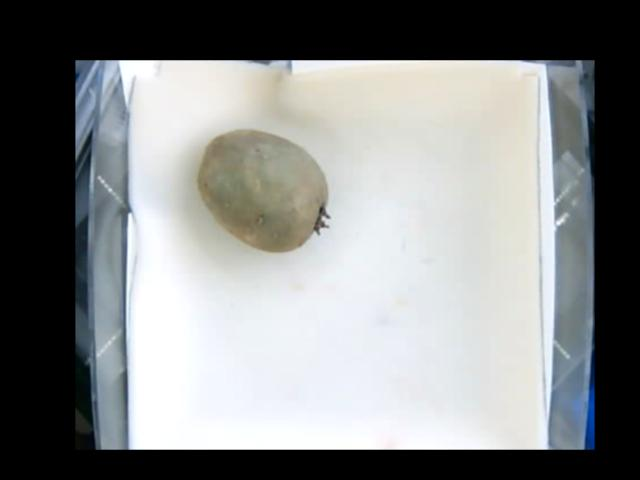Potato: (196, 126, 331, 257)
